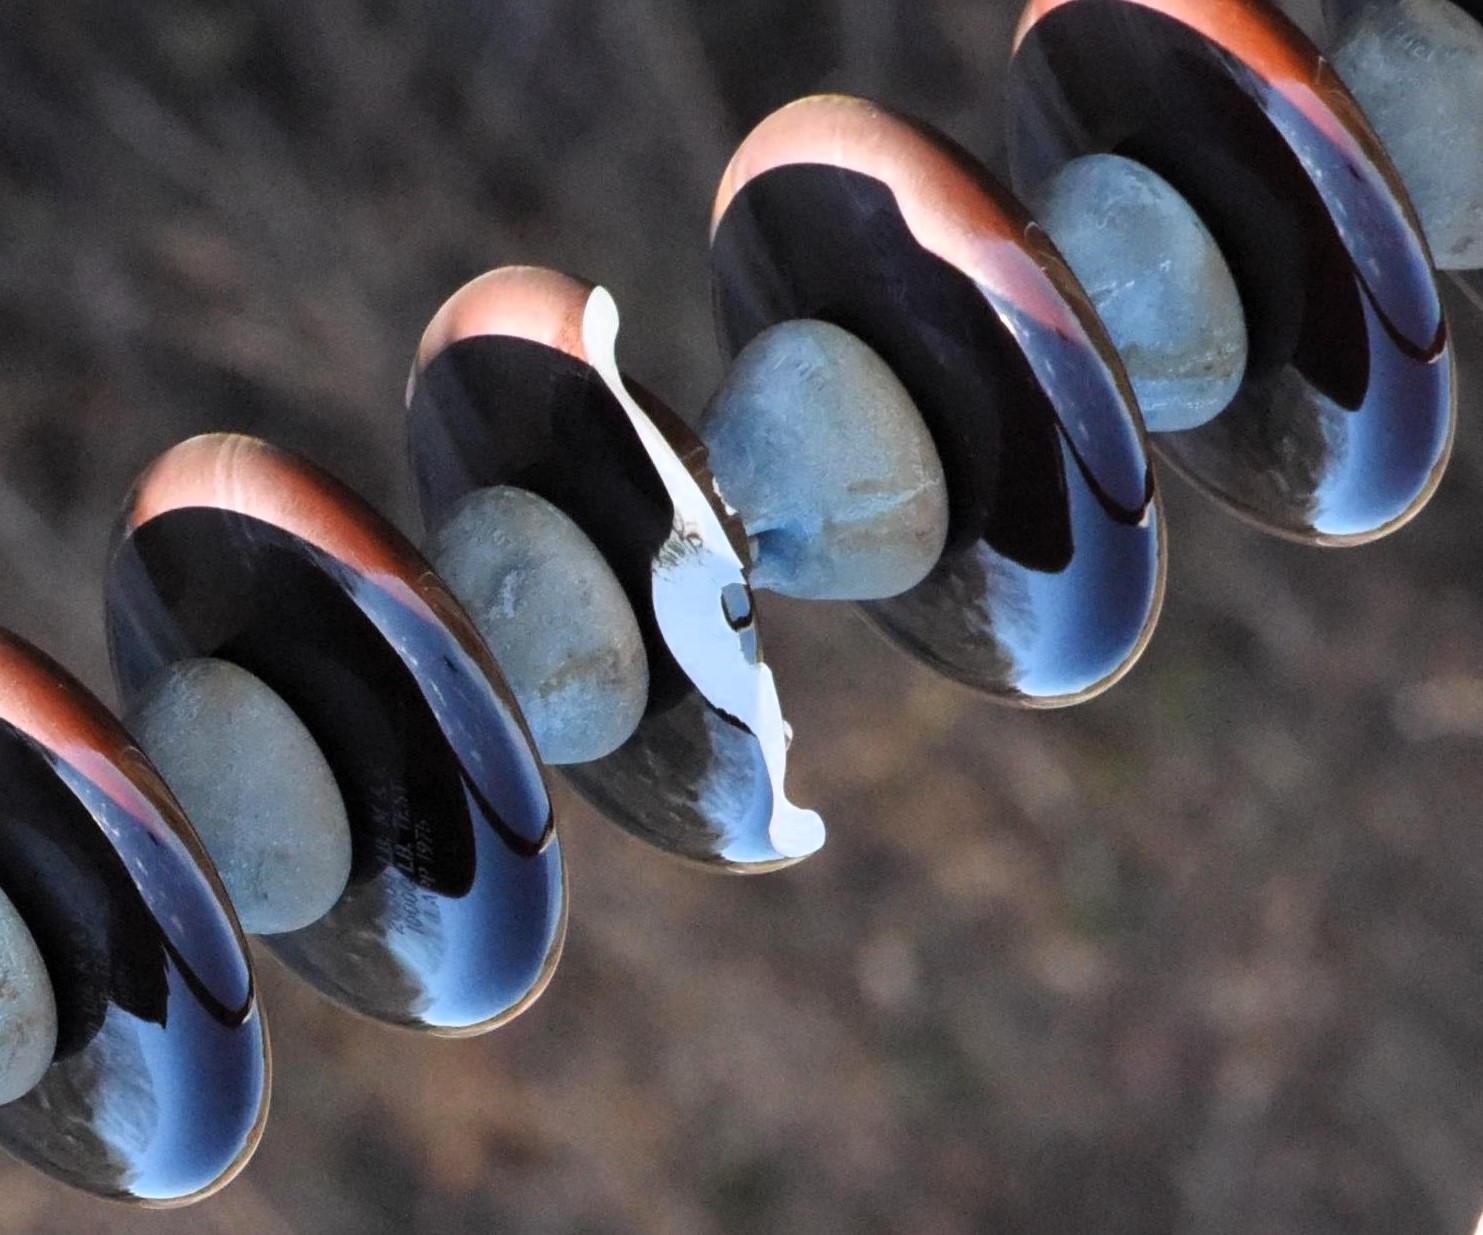insulator breakage: (388, 255, 857, 888)
